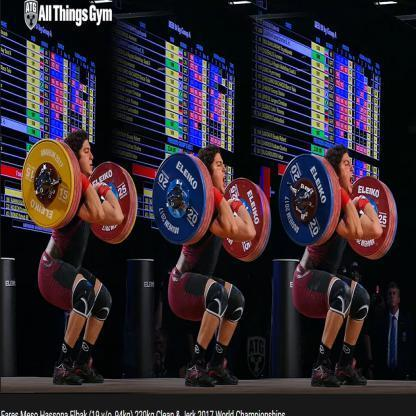barbell: (152, 153, 272, 261), (279, 153, 397, 261), (22, 139, 137, 245)
